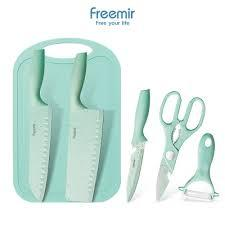knives: (19, 47, 107, 209)
